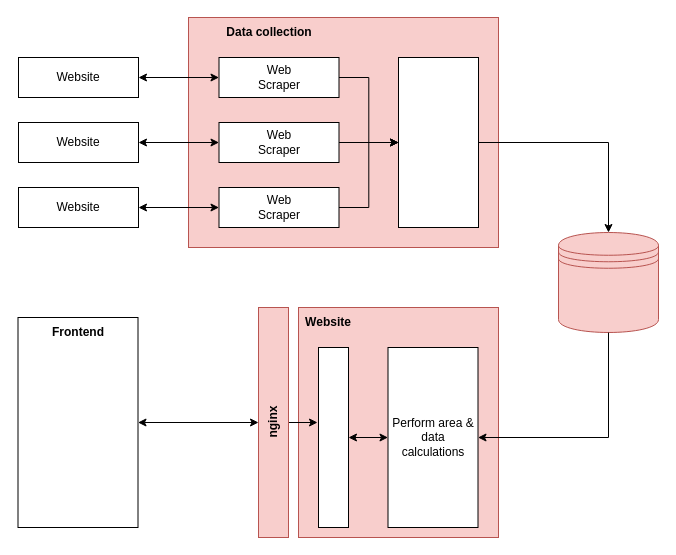
The diagram is 676 pixels wide and 555 high, and some of its shapes have lost their labels. The shapes that lost their labels are listed below. From the top down, each one's box as (x1, y1, x2, y2) in pixels, then its label:
(398, 56, 478, 228): DB synchronizer
(558, 232, 658, 332): MongoDB
(17, 316, 138, 528): Google maps api viz
(318, 346, 348, 528): Request handler
